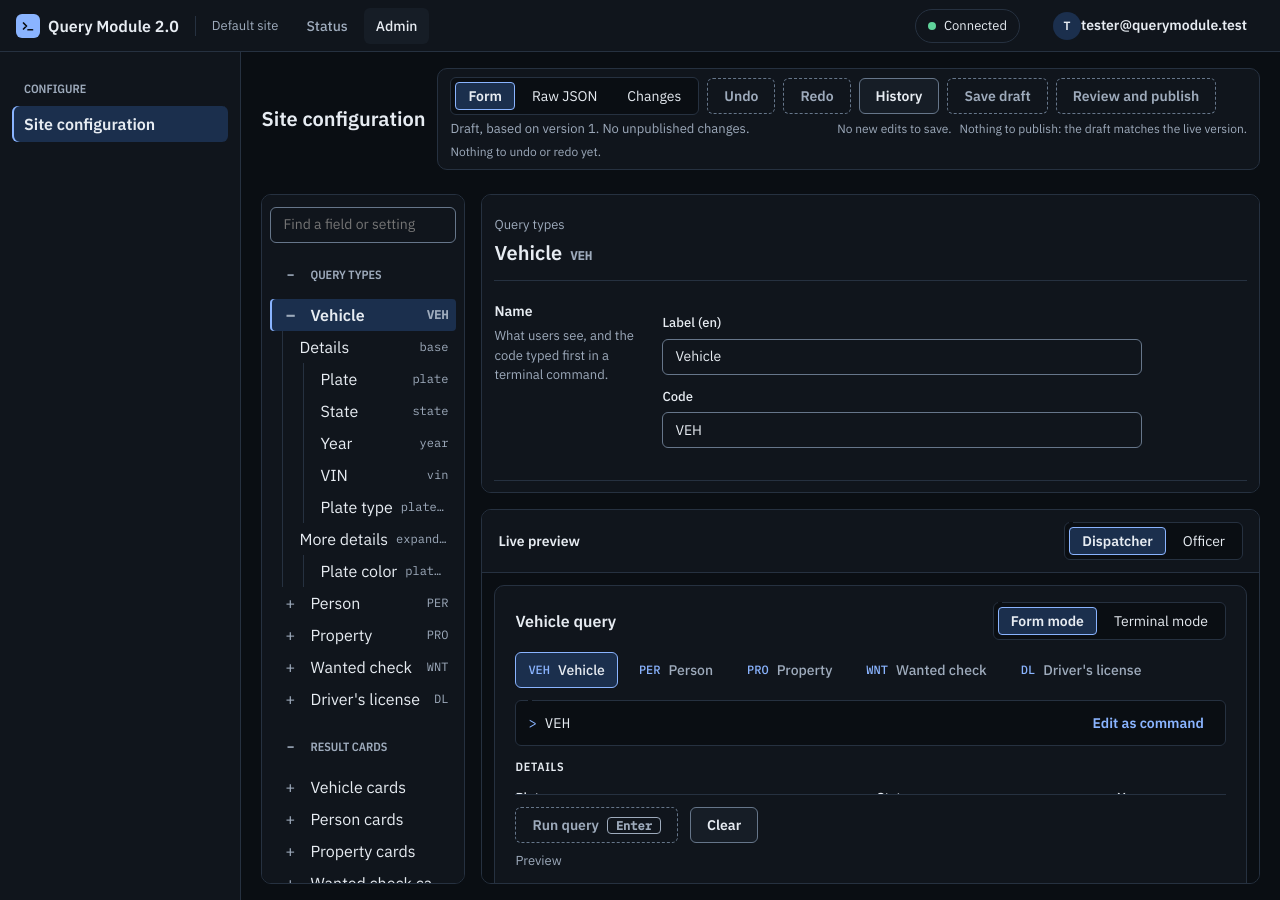
Test case: builder tree (A-D1 A2, FR-060, UX-004) › only the selected query type is expanded; the others toggle with aria-expanded
Expected: the tab "Form" is shown, [456, 82, 515, 110]
Expected: the list item "Last name last" is not shown
What coordinates should you click on to do the following:
click the list item "Person PER"
I would click on:
 (335, 602)
Its box is [270, 586, 456, 618].
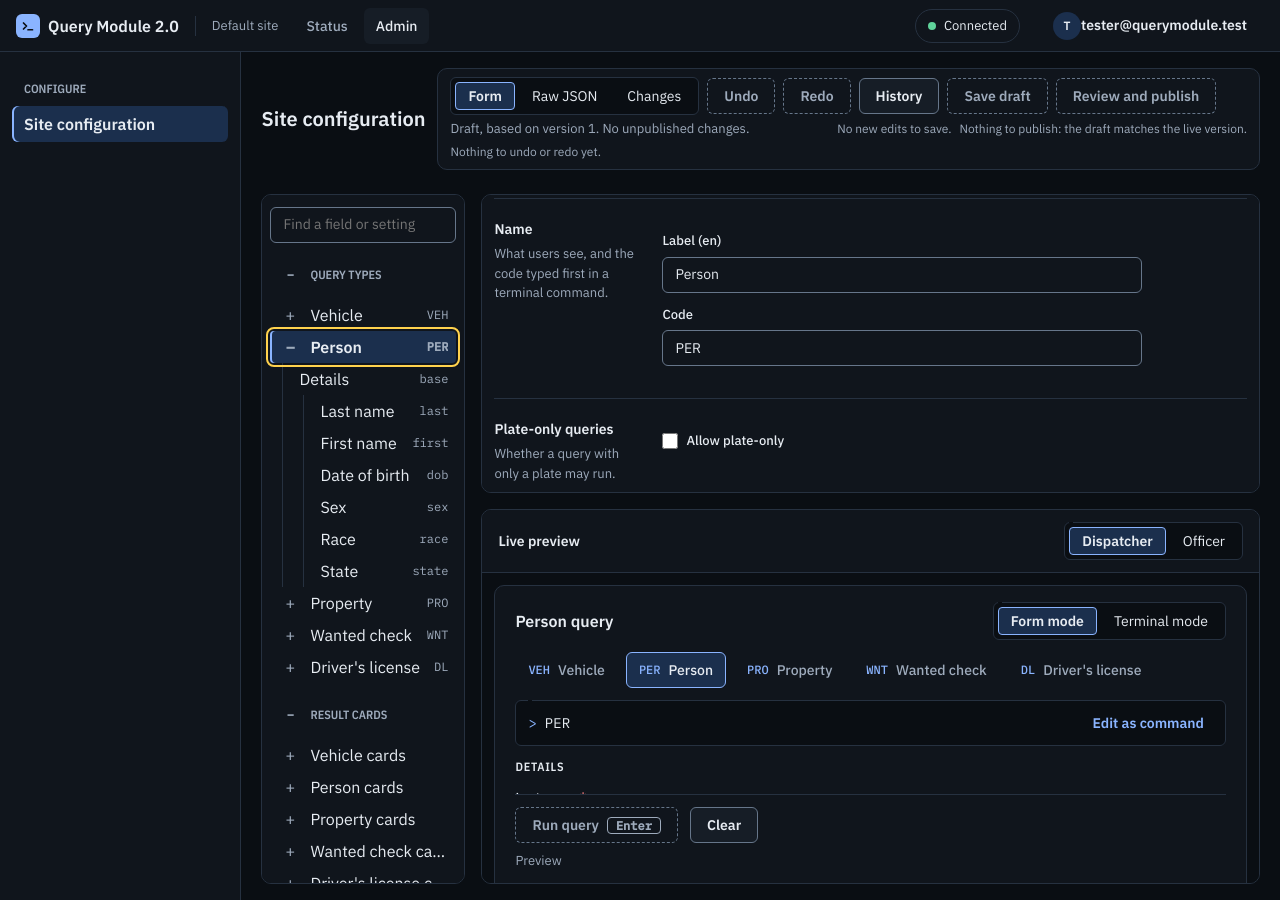
Expected: the number of list items "Last name last" is 1, [312, 394, 456, 426]
Expected: the list item "Person PER" is expanded, [270, 330, 456, 362]
